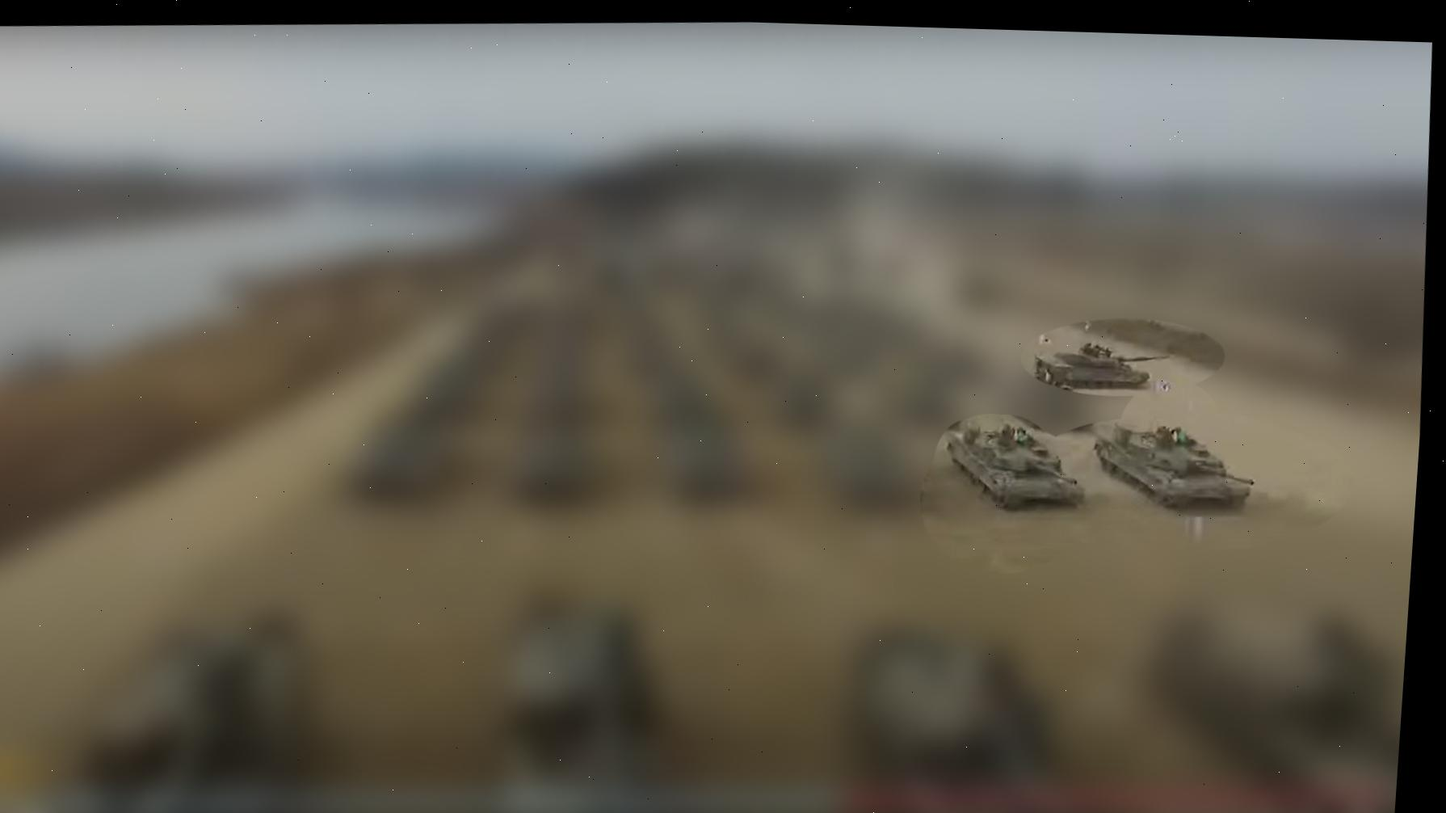tank: (935, 408, 1093, 514), (1085, 417, 1257, 510), (1027, 333, 1174, 396)
